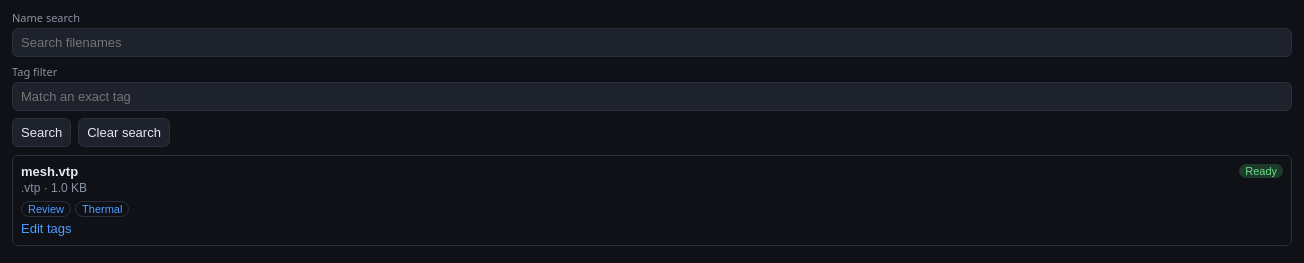
Test: DatasetList search › submits name and tag filters to the API and can restore the full list
This screenshot has width=1304, height=263.
In the field labelled "Name search": (652, 42) top-left (12, 28), bottom-right (1292, 57), type " thermal "
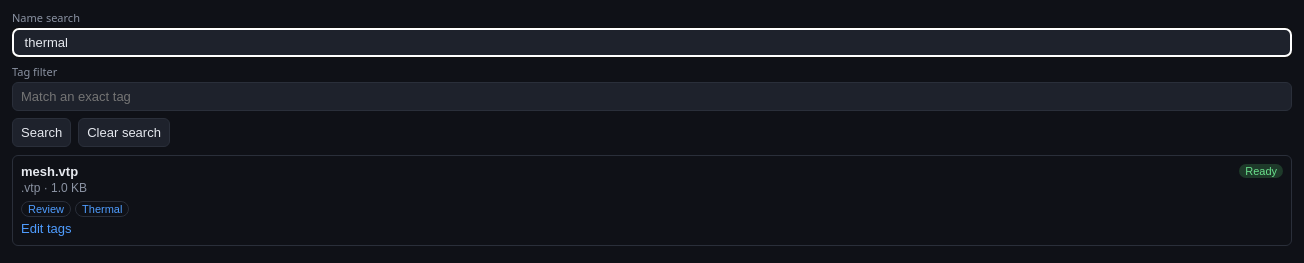
In the field labelled "Tag filter": (652, 96) top-left (12, 82), bottom-right (1292, 111), type " Thermal "
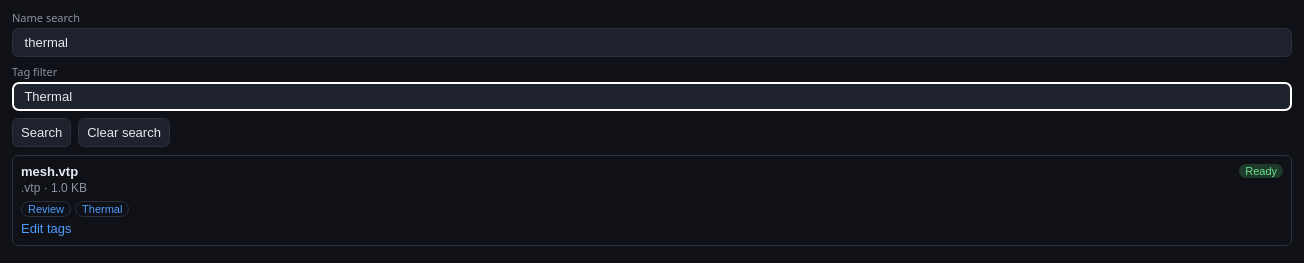
Click the button "Search": (42, 132) top-left (12, 118), bottom-right (71, 147)
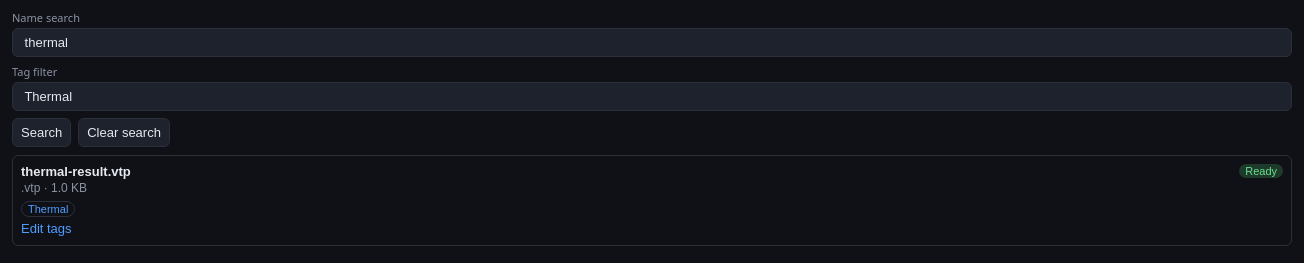
Expected: the text "thermal-result.vtp" is shown, top-left (21, 164), bottom-right (131, 179)
Expected: the button "mesh.vtp" is gone
Click the button "Clear search": (124, 132) top-left (78, 118), bottom-right (170, 147)
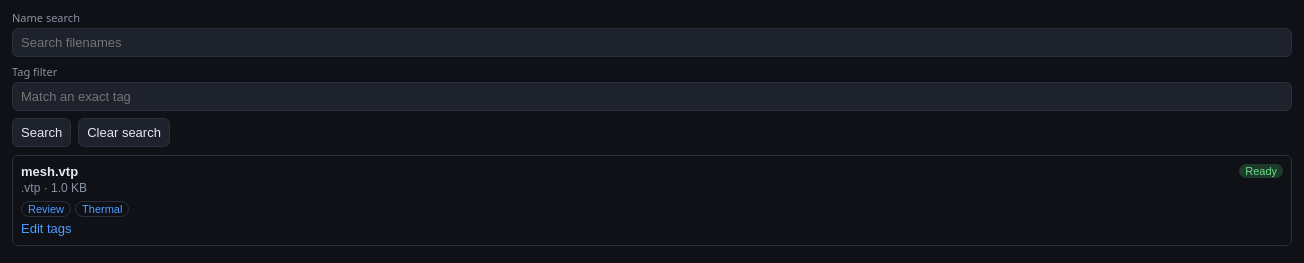
Expected: the text "mesh.vtp" is shown, top-left (21, 164), bottom-right (78, 179)
